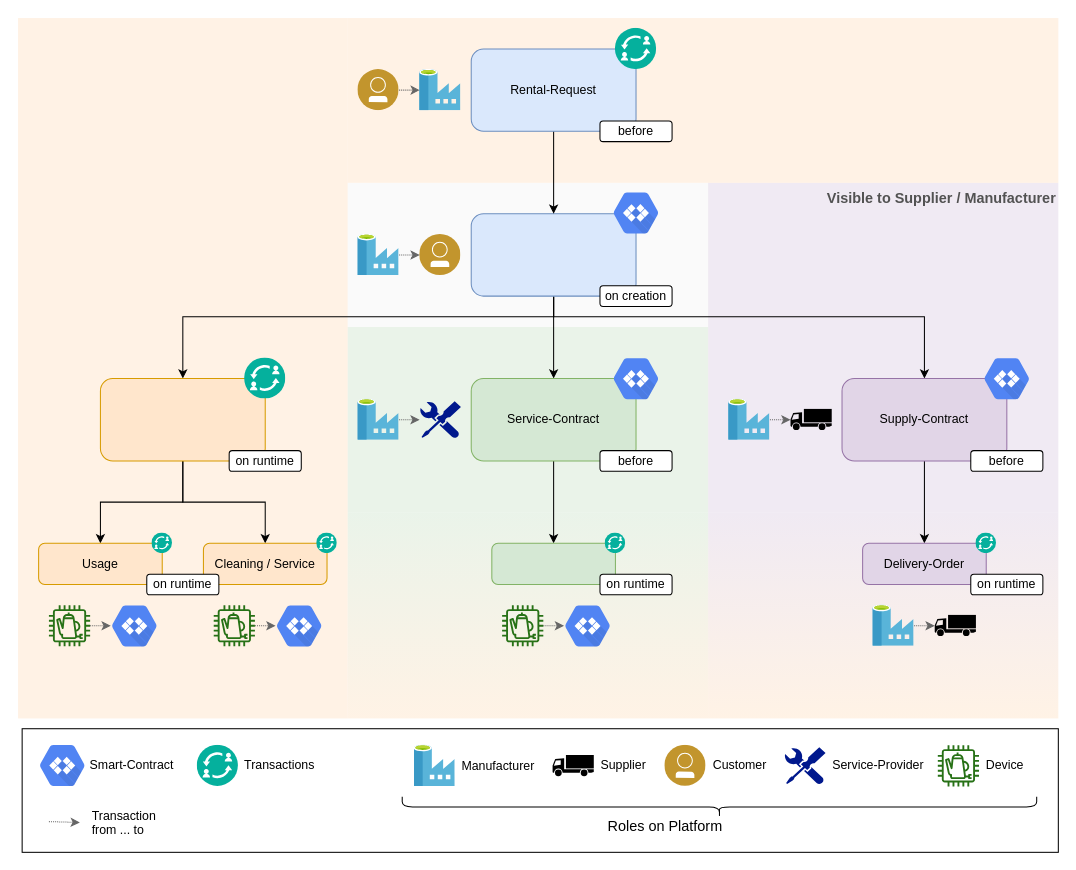
Image size: 1076x870. Some labels were removed from this diagram. The box of each missing label's shape, as (x1, y1, x2, y2) in pixels:
Payment: (99, 377, 265, 461)
Rental-Contract: (470, 213, 636, 296)
Service-Order: (491, 542, 615, 585)
Visible to Customer / Manufacturer: (18, 18, 347, 718)
Visible to Service-Provider / Manufacturer: (347, 327, 708, 512)
Visible to Service-Provider / Manufacturer / Customer: (347, 512, 708, 718)
Visible to Supplier / Manufacturer / Customer: (708, 512, 1058, 718)
